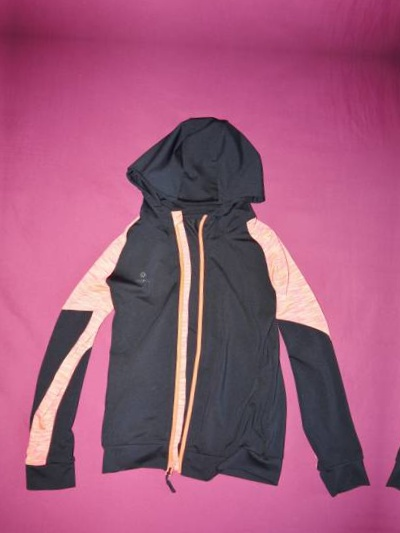Hoodie: (0, 112, 393, 518), (383, 135, 400, 533)
